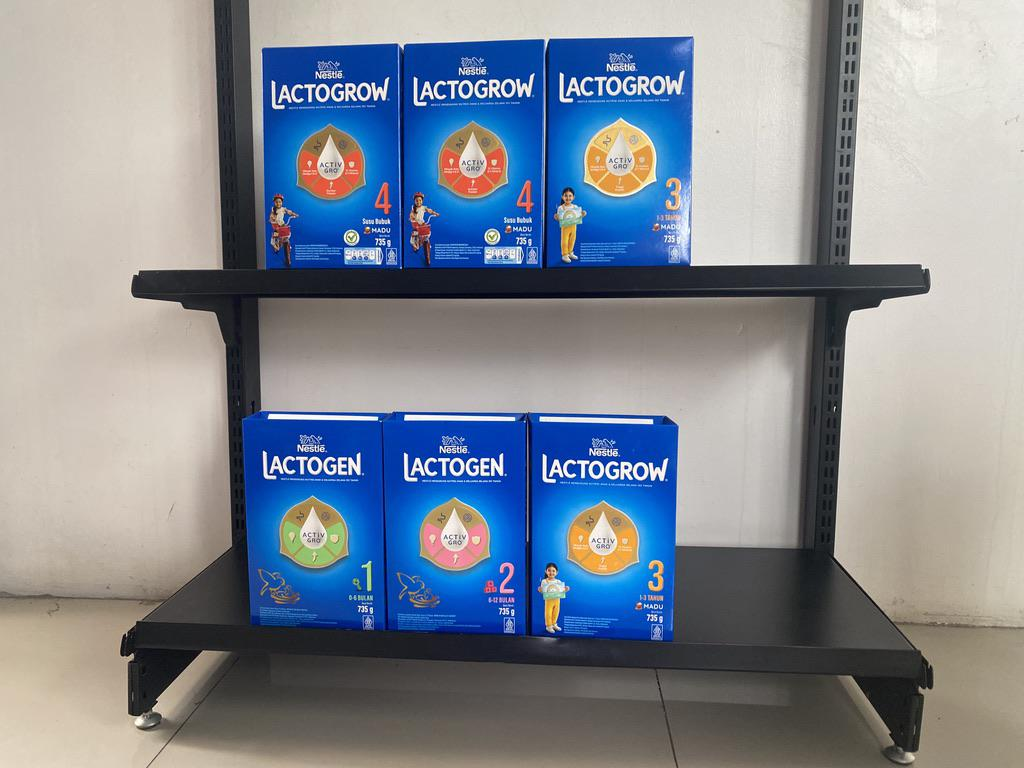LACTOGROW 3 Happynutri Honey 12x750g N1 ID_REDESIGN2: (545, 38, 694, 265), (531, 423, 679, 639), (385, 418, 529, 634)
